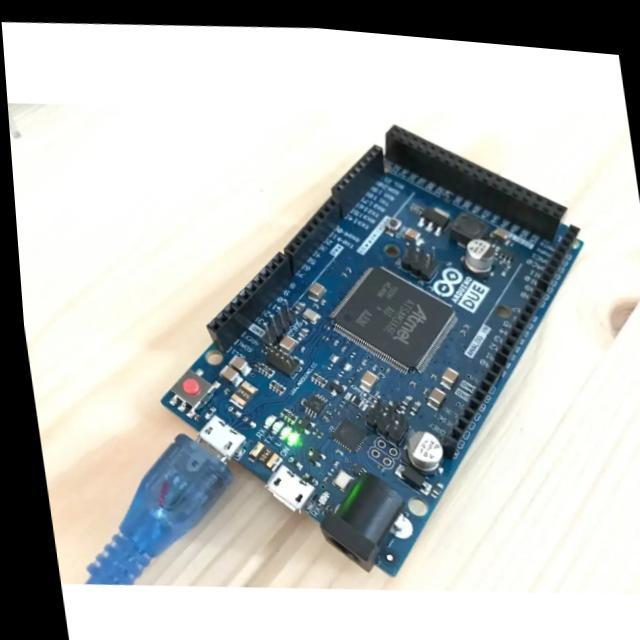Arduino-Due: (162, 127, 582, 575)
